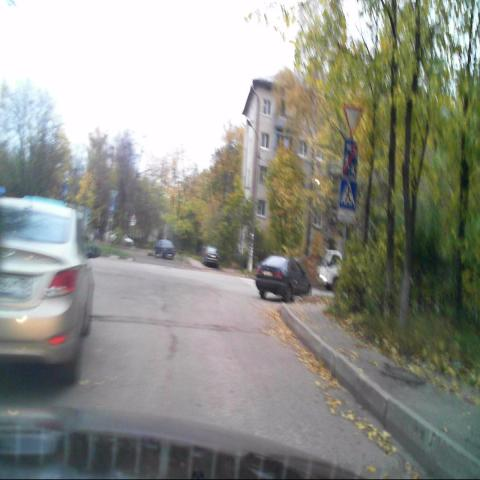5_22: (343, 140, 357, 177)
